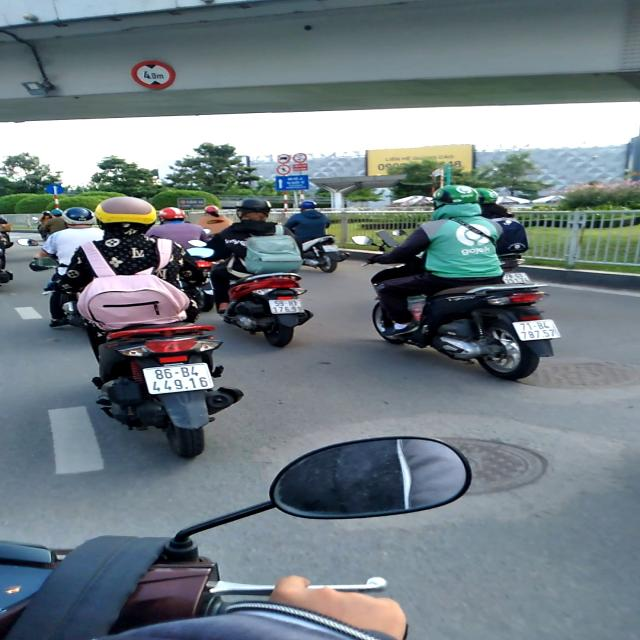Cam con lai: (293, 152, 308, 164), (276, 165, 290, 175), (276, 154, 290, 164)
Chieu cao toi da: (131, 60, 176, 89)
Hieu lenh: (43, 183, 65, 194)
